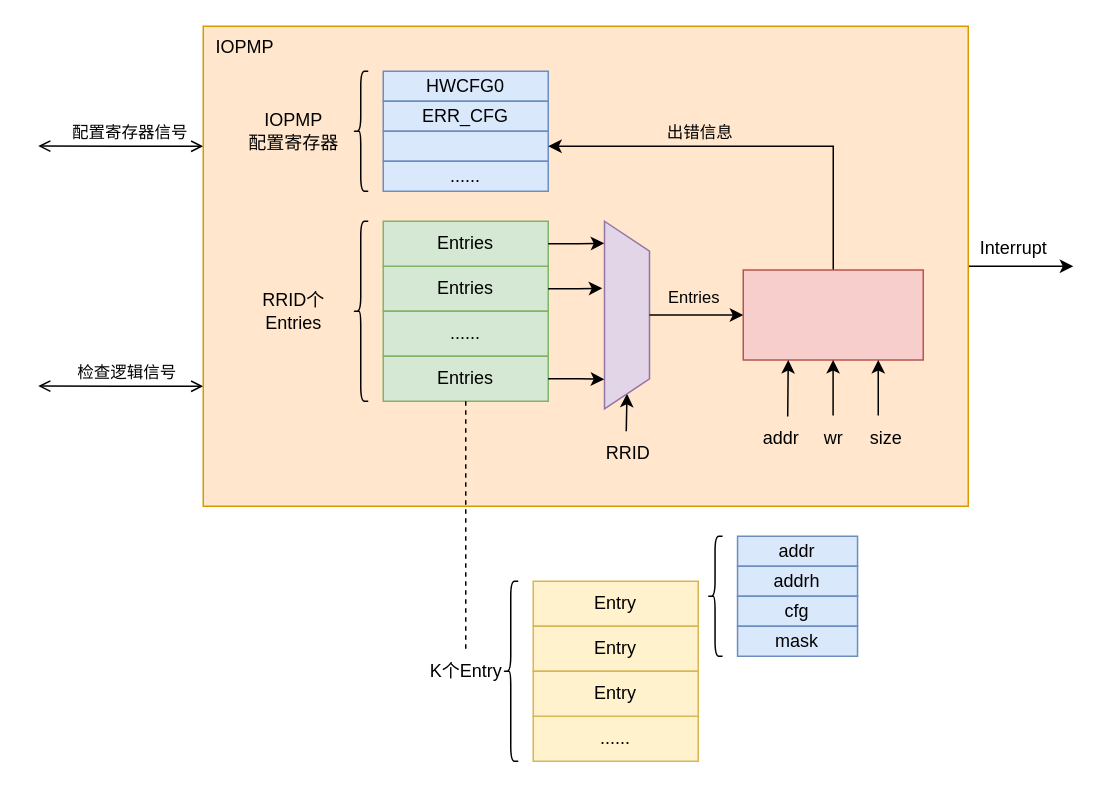
Some shapes in this 1112 by 788 pixel diagram are drawn without their labels. The shapes that lost their labels are listed below. From the top down, each one's box as (x1, y1, x2, y2) in pixels, then its label:
(382, 130, 548, 161): ERR_REQ_INFO
(603, 220, 650, 409): MUX
(742, 268, 923, 360): IOPMPChecker
